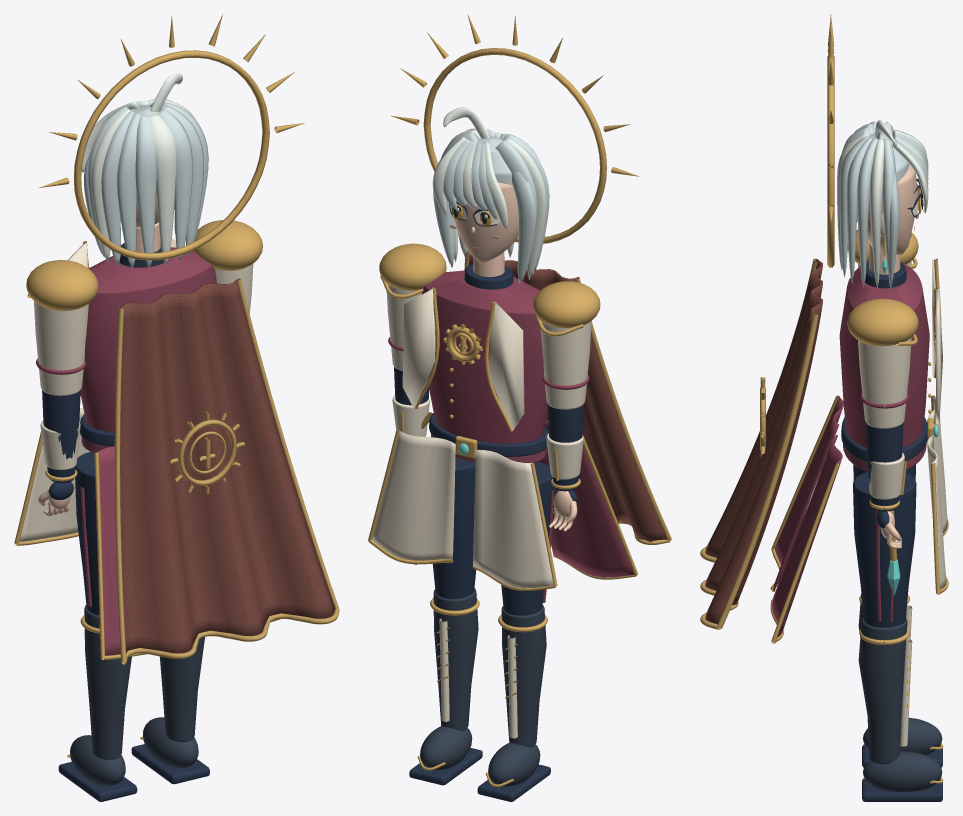
File: sunwarden.glb
3 renders of one model, left to right at view 1: azimuth 30°, elevation 25°; view 2: azimuth 150°, elevation 25°; view 3: azimuth 270°, elevation 25°, orthographic. The views are drawn at different scales.
Visible parts, largest first — view 1: Cape_wine_cloth, Head_anime_silver_hair, Torso_anime_red, Cape_gold, Head_anime_gold, Knee_anime_boots, Head_anime_hair_light, Knee.001_anime_boots, ArmL_anime_ivory, Rig_anime_red, ArmL_anime_gold, Rig_anime_ivory (+9 smaller); view 2: Rig_anime_ivory, Torso_anime_red, Cape_wine_cloth, Head_anime_silver_hair, Torso_anime_ivory, Knee.001_anime_boots, Knee_anime_boots, Rig_anime_red, Head_anime_hair_light, Head_anime_gold, LegR_anime_navy, ArmL_anime_ivory (+17 smaller); view 3: Cape_wine_cloth, Knee.001_anime_boots, Torso_anime_red, Head_anime_silver_hair, LegR_anime_navy, Rig_anime_red, ArmR_anime_ivory, Head_anime_hair_light, Cape_gold, ArmR_anime_gold, Rig_anime_gold, Head_anime_gold (+11 smaller).
Boxes of the visible parts, box(x1,y1,x2,y2) form: Cape_wine_cloth: box(120, 279, 335, 653); Head_anime_silver_hair: box(84, 98, 208, 269); Torso_anime_red: box(80, 247, 216, 452); Cape_gold: box(114, 278, 339, 664); Head_anime_gold: box(38, 14, 304, 260); Knee_anime_boots: box(70, 605, 131, 786); Head_anime_hair_light: box(81, 73, 195, 266); Knee.001_anime_boots: box(143, 637, 204, 768); ArmL_anime_ivory: box(34, 301, 88, 395); Rig_anime_red: box(95, 446, 120, 655); ArmL_anime_gold: box(26, 260, 98, 310); Rig_anime_ivory: box(19, 408, 90, 541); Rig_anime_ivory: box(372, 430, 553, 588); Torso_anime_red: box(421, 270, 547, 462); Cape_wine_cloth: box(468, 252, 667, 541); Head_anime_silver_hair: box(433, 128, 549, 283); Torso_anime_ivory: box(402, 288, 524, 429); Knee.001_anime_boots: box(420, 588, 478, 770); Knee_anime_boots: box(488, 605, 546, 787); Rig_anime_red: box(415, 420, 634, 577); Head_anime_hair_light: box(432, 107, 546, 279); Head_anime_gold: box(391, 14, 639, 243); LegR_anime_navy: box(432, 457, 476, 599); ArmL_anime_ivory: box(540, 321, 591, 409); Cape_wine_cloth: box(705, 260, 822, 624); Knee.001_anime_boots: box(858, 618, 942, 791); Torso_anime_red: box(839, 262, 929, 471); Head_anime_silver_hair: box(839, 121, 928, 287); LegR_anime_navy: box(853, 472, 916, 627); Rig_anime_red: box(772, 396, 893, 637); ArmR_anime_ivory: box(858, 337, 911, 428); Head_anime_hair_light: box(837, 120, 928, 288); Cape_gold: box(700, 258, 818, 629); ArmR_anime_gold: box(847, 298, 918, 346); Rig_anime_gold: box(770, 395, 948, 643); Head_anime_gold: box(827, 14, 885, 267).
Size of the model in its own units: 0.82 by 2.31 by 0.6943.
17 materials, 1 textured.
